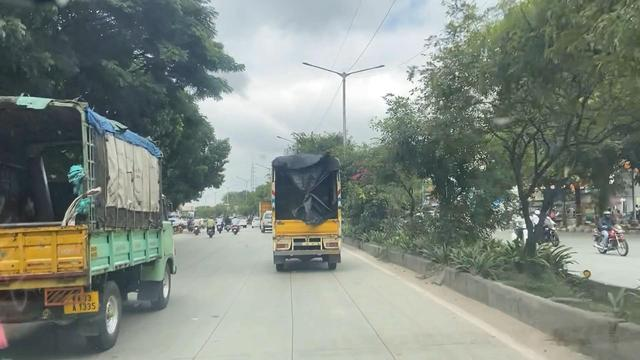HMV: (0, 93, 192, 357), (258, 127, 358, 297)
